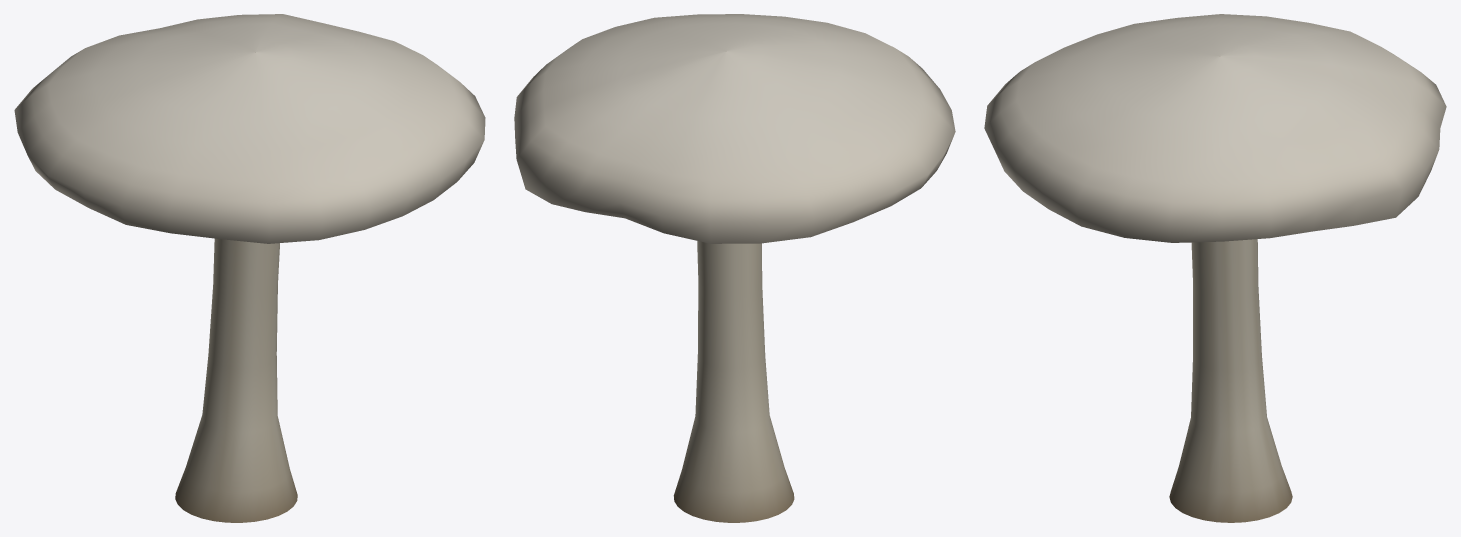
Rendered from mushroom-giant-glow-c.glb.
3 renders of one model, left to right at view 1: azimuth 30°, elevation 25°; view 2: azimuth 150°, elevation 25°; view 3: azimuth 270°, elevation 25°, orthographic.
Visible parts, largest first — view 1: mushroom-giant-glow-c; view 2: mushroom-giant-glow-c; view 3: mushroom-giant-glow-c.
Boxes of the visible parts, <box> form: mushroom-giant-glow-c: <box>14,14,485,522</box>; mushroom-giant-glow-c: <box>514,14,955,522</box>; mushroom-giant-glow-c: <box>984,14,1446,522</box>.
Size of the model in its own units: 1.18 by 1.25 by 1.17.
